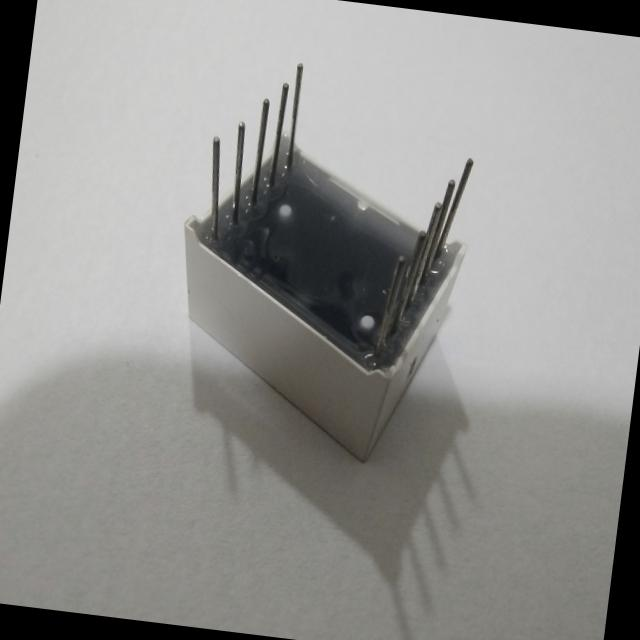7_segments: (145, 39, 498, 486)
